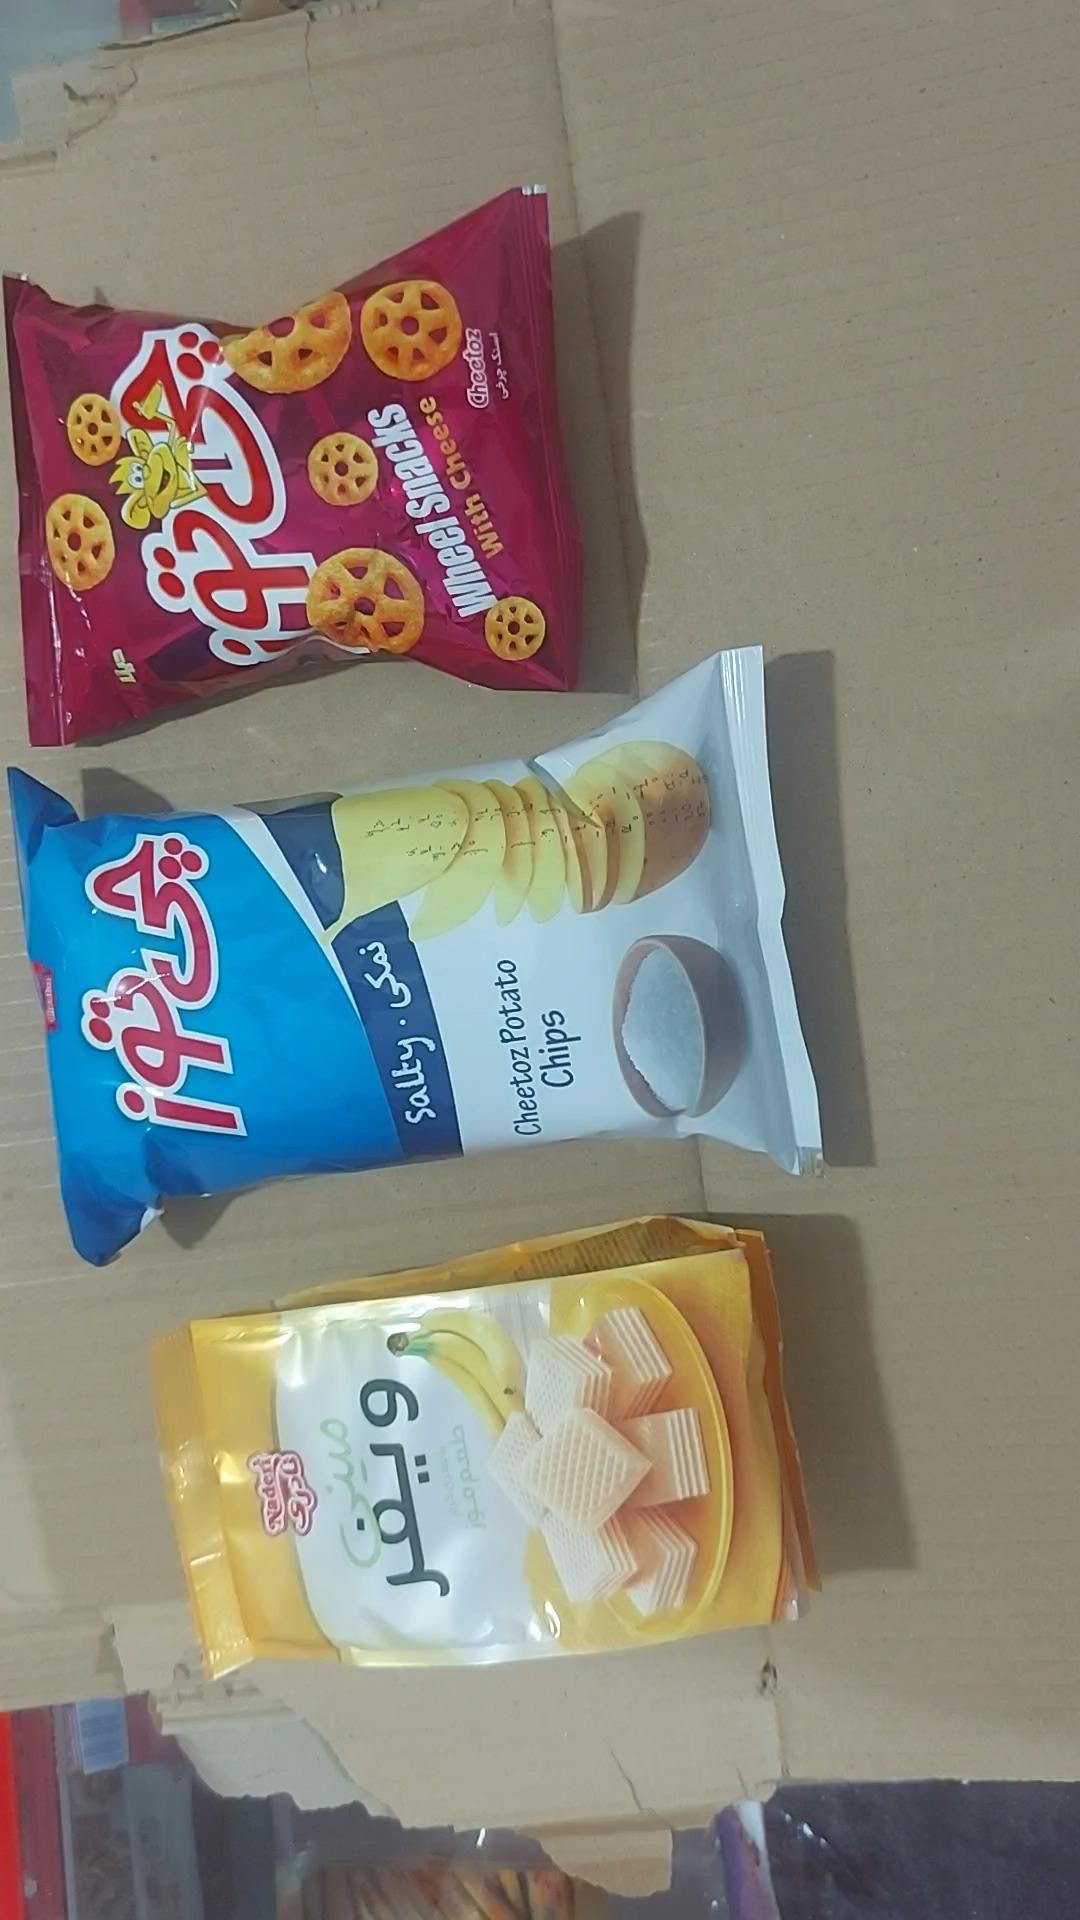Cheetoz salty chips: (7, 646, 823, 1269)
Cheetoz wheelsnack: (3, 185, 583, 746)
Naderi mini wafer: (149, 1215, 822, 1680)
